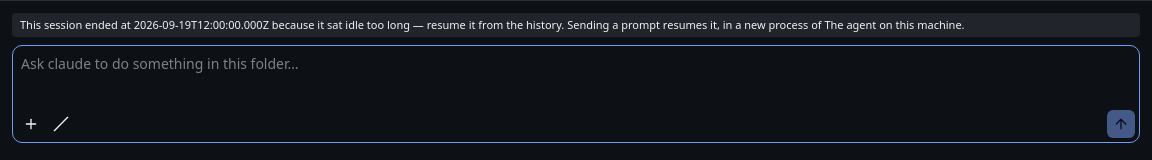
Test: send and stop, in one place — plan 09, B-10, D-06 › has no stop once the session ended, and sending resumes it — S-22
The image size is (1152, 160).
In the text box named "Prompt": [576, 78] box [13,46,1139,110], type "go on"
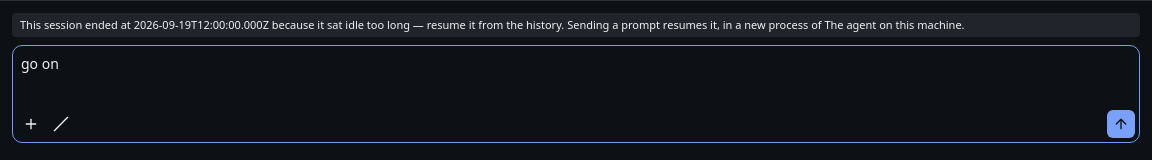
Now the button named "Resume and send" is enabled, box [1107,110,1135,138]
